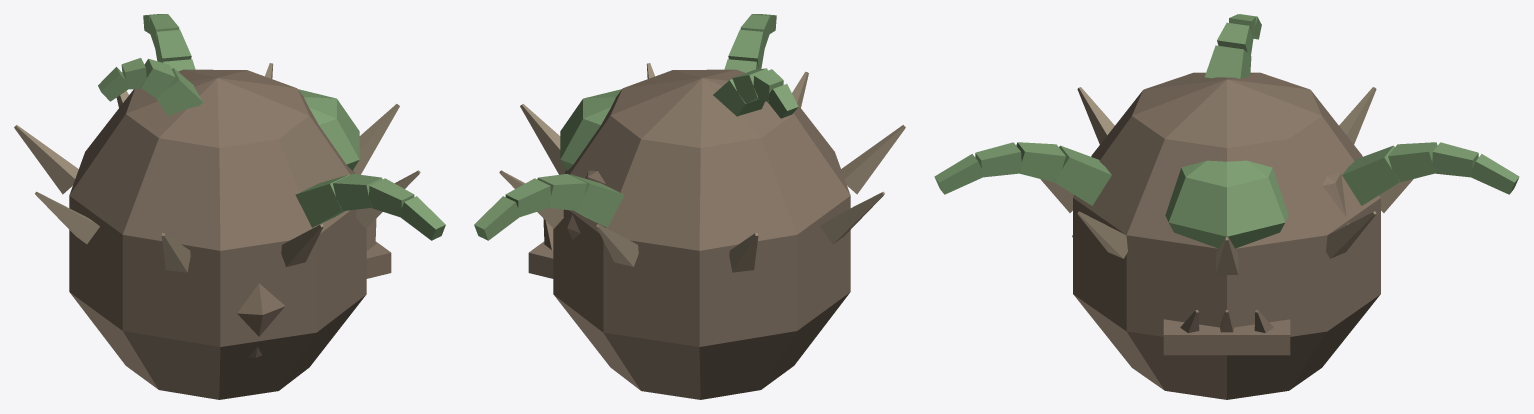
The model's file is briar.glb.
3 renders of one model, left to right at view 1: azimuth 30°, elevation 25°; view 2: azimuth 150°, elevation 25°; view 3: azimuth 270°, elevation 25°, orthographic.
Visible parts, largest first — view 1: body, thorns, moss, vine1, vine1.001, vine2, vine1.003, vine1.002, jaw, vine0.001, vine2.001, vine2.003 (+2 smaller); view 2: body, thorns, moss, vine0, vine0.001, vine0.003, vine0.002, jaw, vine1.001, vine2, vine2.003, vine2.002 (+2 smaller); view 3: body, moss, thorns, jaw, vine0, vine1, vine0.001, vine1.001, vine2, vine0.002, vine1.002, vine0.003 (+2 smaller).
Boxes of the visible parts, x1,y1,x2,y2 form: body: (69, 69, 366, 399); thorns: (14, 63, 420, 272); moss: (298, 89, 359, 170); vine1: (295, 174, 349, 227); vine1.001: (333, 174, 382, 211); vine2: (156, 68, 203, 116); vine1.003: (401, 196, 445, 240); vine1.002: (369, 178, 414, 217); jaw: (366, 218, 391, 278); vine0.001: (155, 29, 191, 62); vine2.001: (140, 58, 175, 98); vine2.003: (98, 67, 127, 101); body: (553, 69, 850, 399); thorns: (499, 63, 905, 272); moss: (560, 89, 621, 170); vine0: (570, 174, 624, 227); vine0.001: (537, 174, 586, 211); vine0.003: (474, 196, 518, 240); vine0.002: (505, 178, 550, 217); jaw: (528, 218, 553, 278); vine1.001: (728, 29, 764, 69); vine2: (713, 79, 764, 116); vine2.003: (768, 84, 798, 118); vine2.002: (753, 69, 783, 101); body: (1072, 72, 1380, 399); moss: (1165, 160, 1288, 248); thorns: (1040, 87, 1413, 274); jaw: (1163, 310, 1290, 355); vine0: (1342, 145, 1399, 205); vine1: (1054, 145, 1111, 205); vine0.001: (1388, 142, 1437, 182); vine1.001: (1016, 142, 1065, 182); vine2: (1204, 45, 1251, 78); vine0.002: (1432, 142, 1478, 177); vine1.002: (975, 142, 1021, 177); vine0.003: (1471, 154, 1519, 194).
Bounding box in the file's own units: 1.13 × 0.9995 × 1.57.
